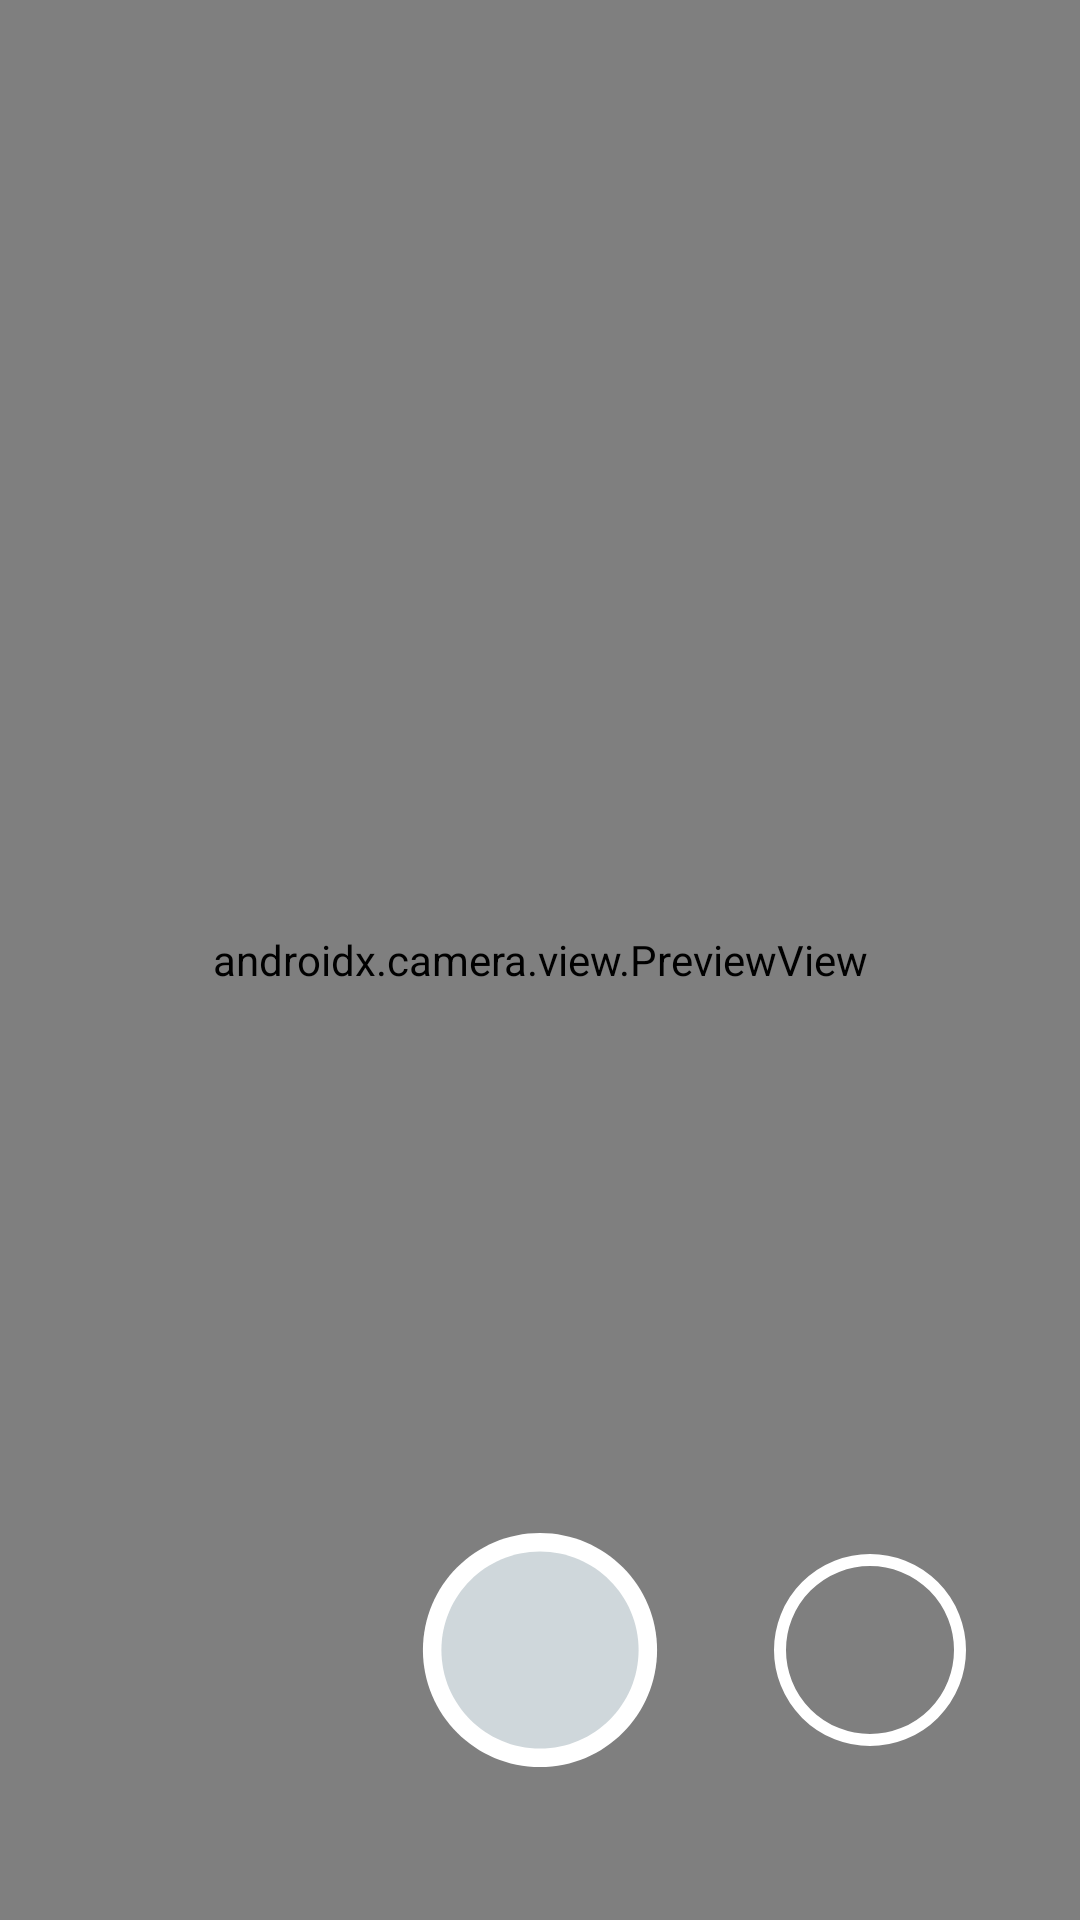

Icons on this 1080 × 1920 Android screen, each with the point to tap as [x,y]:
Take a photo: [540,1650]
